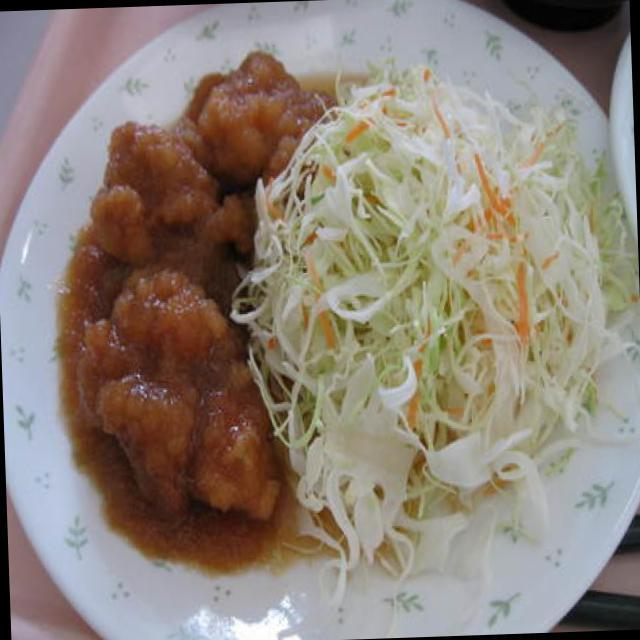Green Salad: (262, 82, 616, 482)
